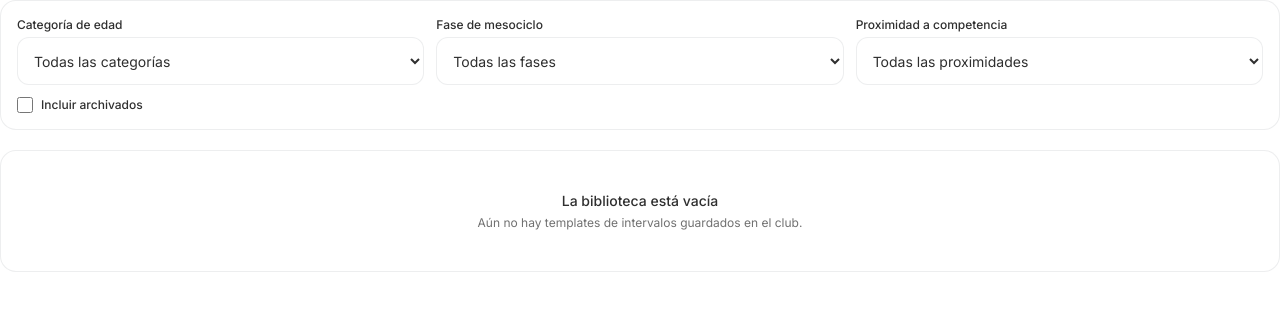
Test: TemplatePicker — estado vacío › con filtros activos muestra 'Sin templates para estos filtros'
Select "10 a 12 años" in the dropdown labelled "Categoría de edad" at point(221, 61), box [17,37,424,85]
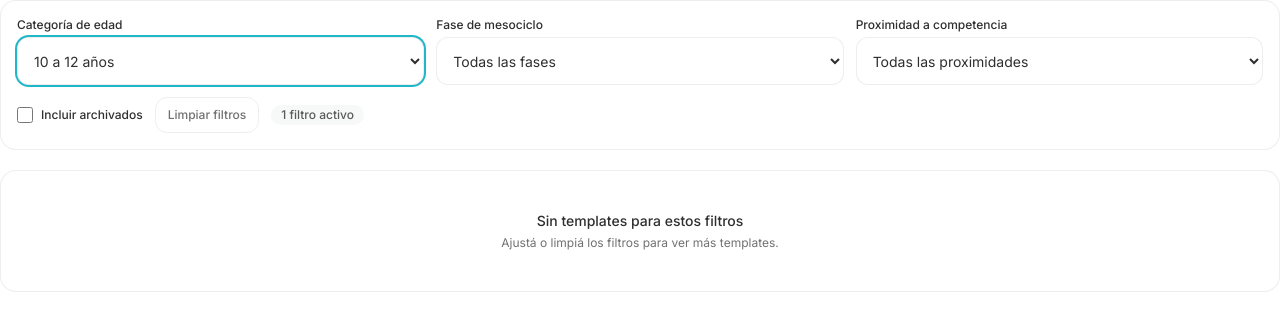
Now the text "Sin templates para estos filtros" is shown, box [537,212,743,229]
